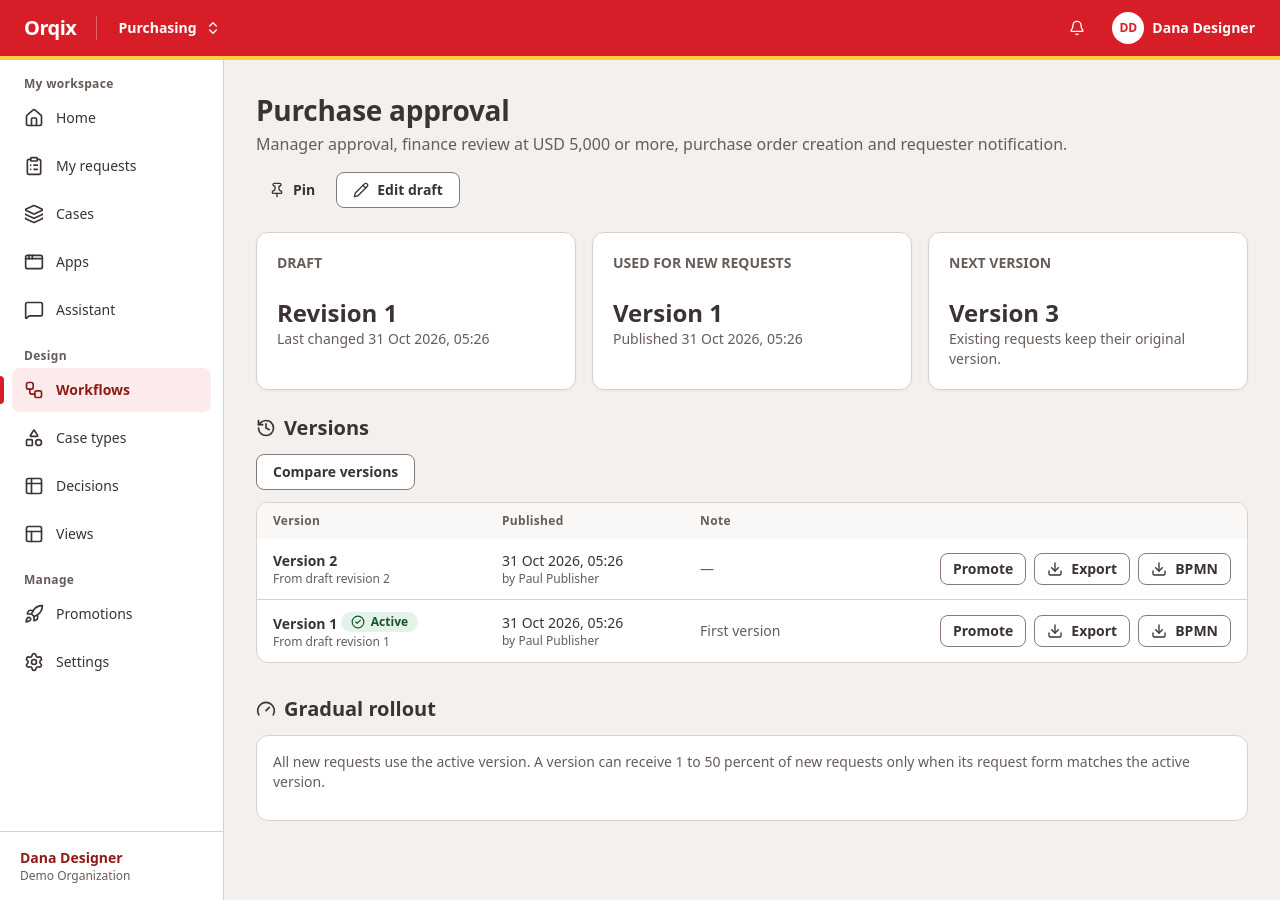
published version comparison › shows a failed release fetch rather than a misleading empty diff
Click the button "Compare versions". click: (336, 472)
box: [256,454,415,490]
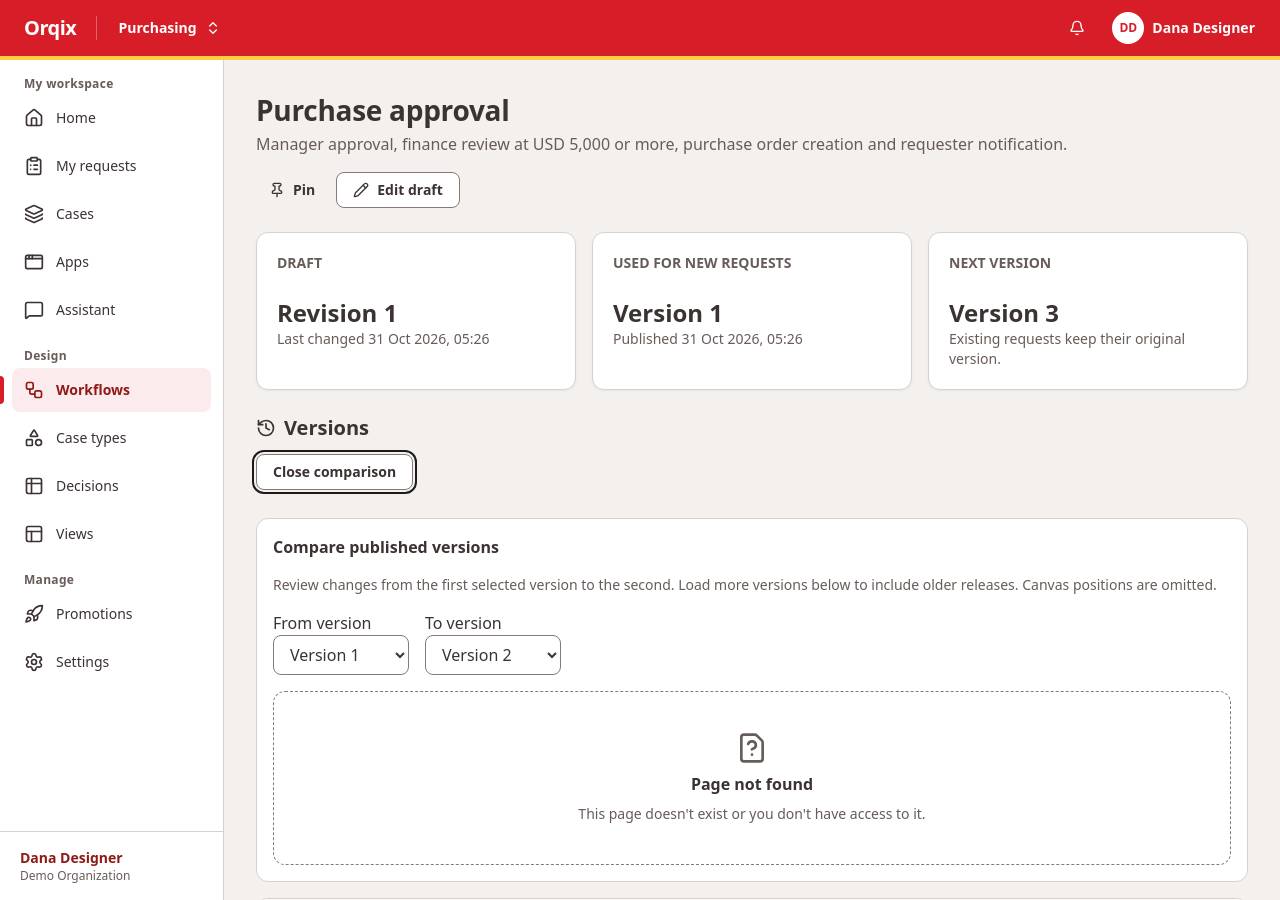
Expected: the text "Page not found" is shown, [691,772,813,796]
